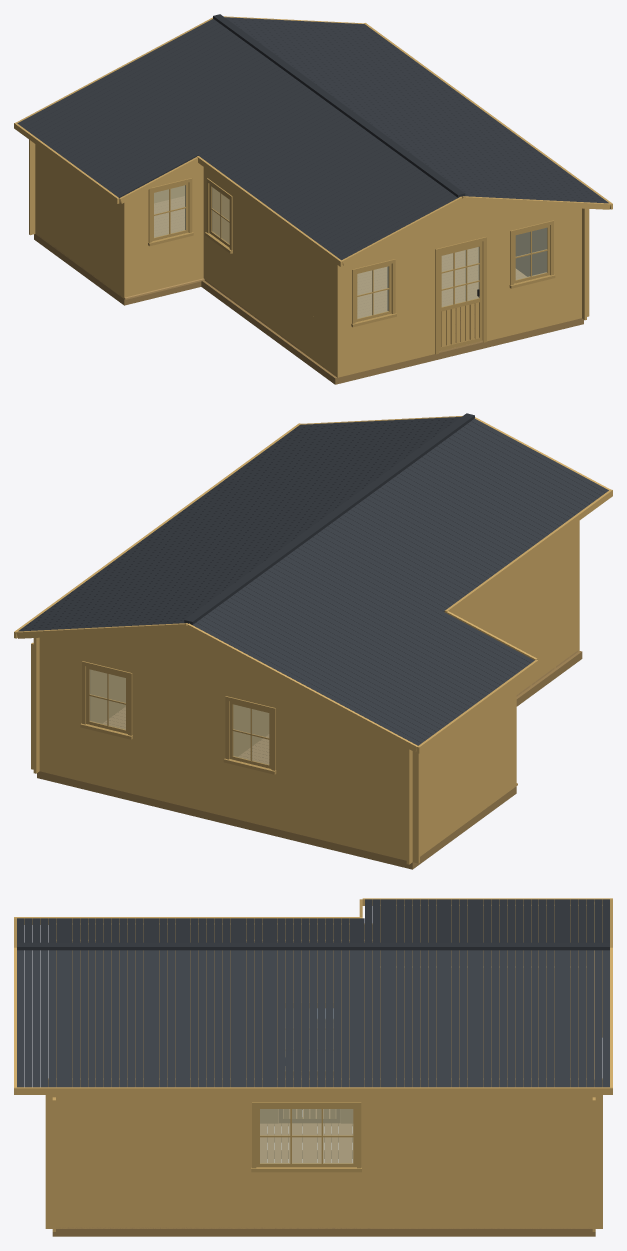
File: диана_7_6_6_3_44_мм_г_образная.glb
The picture shows the model from 3 angles, top to bottom: view 1: azimuth 30°, elevation 25°; view 2: azimuth 150°, elevation 25°; view 3: azimuth 270°, elevation 25°; orthographic projection. The views are drawn at different scales.
Parts seen in each view (by area): view 1: roof, walls, floor, Диана 7,6×6,3 (44 мм, Г-образная), object 103, object 127, object 61, object 116, object 6; view 2: roof, walls, Диана 7,6×6,3 (44 мм, Г-образная), object 138, object 149, floor; view 3: roof, walls, object 160, Диана 7,6×6,3 (44 мм, Г-образная), floor, object 167, object 166, object 159.
Boxes of the visible parts, x1,y1,x2,y2 form: roof: (14,14,612,266); walls: (29,139,589,377); floor: (35,196,526,376); Диана 7,6×6,3 (44 мм, Г-образная): (34,234,583,384); object 103: (442,247,478,306); object 127: (516,228,546,279); object 61: (154,185,185,237); object 116: (357,266,388,318); object 6: (212,187,229,243); roof: (14,413,612,753); walls: (31,521,579,864); Диана 7,6×6,3 (44 мм, Г-образная): (37,651,582,869); object 138: (233,705,268,764); object 149: (90,669,125,729); floor: (103,650,578,806); roof: (14,898,612,1094); walls: (45,902,602,1231); object 160: (260,1109,352,1163); Диана 7,6×6,3 (44 мм, Г-образная): (52,1109,595,1236); floor: (56,1109,591,1228); object 167: (251,1167,361,1172); object 166: (252,1102,360,1106); object 159: (257,1163,356,1167).
Bounding box in the file's own units: 6.84 × 3.24 × 8.34.
